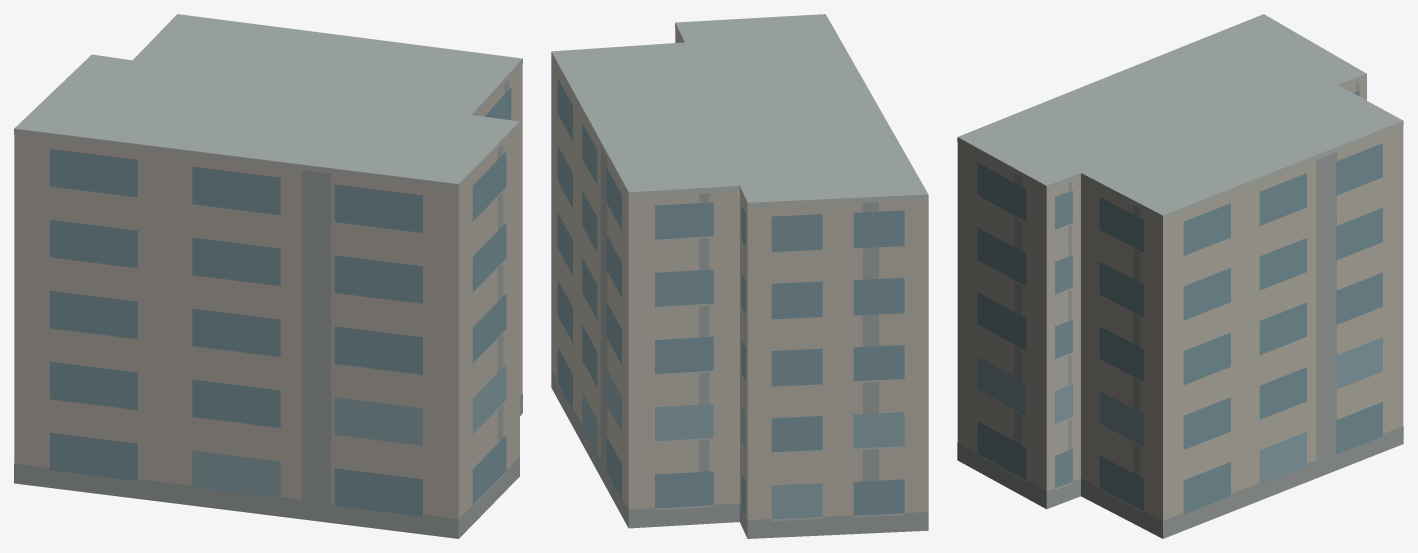
File: survey-upis-32801325.glb
3 views of the same model, side by side, from view 1: azimuth 30°, elevation 25°; view 2: azimuth 150°, elevation 25°; view 3: azimuth 270°, elevation 25° (orthographic). The views are drawn at different scales.
Visible parts, largest first — view 1: survey-upis-32801325.tmp; view 2: survey-upis-32801325.tmp; view 3: survey-upis-32801325.tmp.
Part boxes in pixels (<box>): survey-upis-32801325.tmp: <box>14,14,522,538</box>; survey-upis-32801325.tmp: <box>551,14,928,538</box>; survey-upis-32801325.tmp: <box>957,14,1403,538</box>.
Bounding box in the file's own units: 20.33 × 15.2 × 19.01.
